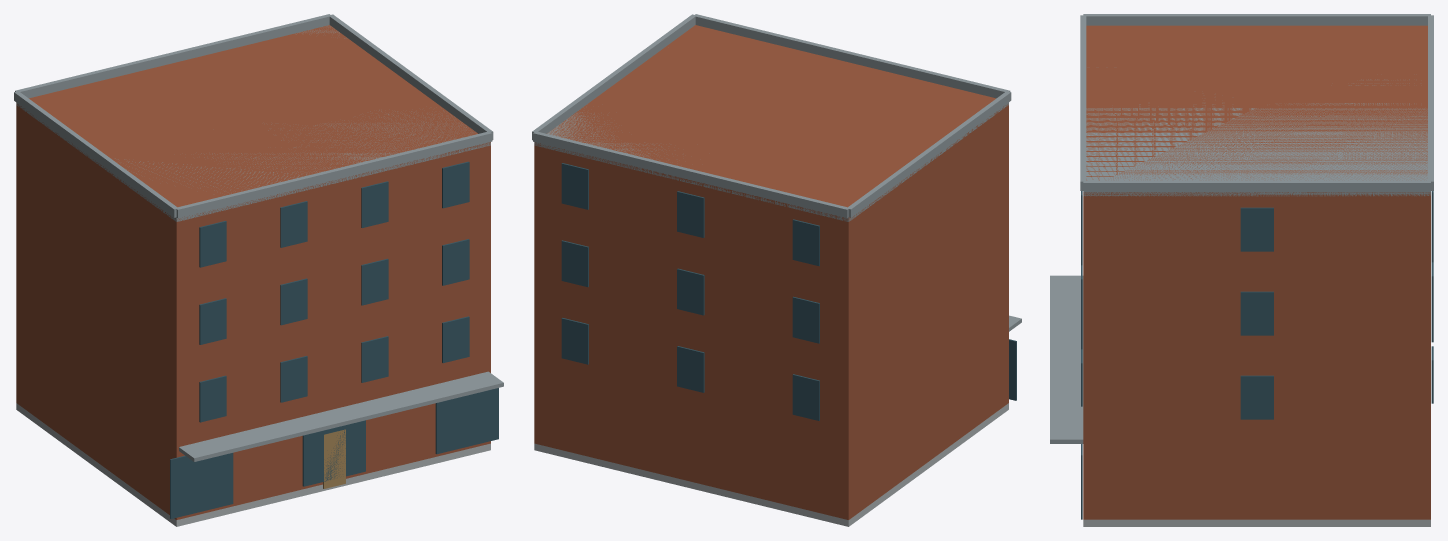
File: shoptop-mixed.glb
3 views of the same model, side by side, from view 1: azimuth 30°, elevation 25°; view 2: azimuth 150°, elevation 25°; view 3: azimuth 270°, elevation 25° (orthographic). The views are drawn at different scales.
Parts seen in each view (by area): view 1: wall-envelope, shop-awning, parapet-front, parapet-rear, opening-shopfront-01, ground-contact-plinth, roof-flat, opening-shopfront-03, opening-shopfront-02, parapet-west, parapet-east, opening-shop-door (+12 smaller); view 2: wall-envelope, parapet-rear, parapet-front, ground-contact-plinth, roof-flat, parapet-west, parapet-east, opening-rear-residential-02-02, opening-rear-residential-04-01, opening-rear-residential-03-03, opening-rear-residential-02-01, opening-rear-residential-04-02 (+4 smaller); view 3: wall-envelope, roof-flat, shop-awning, parapet-east, parapet-west, ground-contact-plinth, opening-east-residential-02, opening-east-residential-03, opening-east-residential-04, parapet-front, parapet-rear.
Part boxes in pixels (left/top/right/bottom): wall-envelope: left=16, top=25, right=490, bottom=519; shop-awning: left=179, top=371, right=503, bottom=461; parapet-front: left=176, top=131, right=492, bottom=218; parapet-rear: left=15, top=14, right=330, bottom=98; opening-shopfront-01: left=170, top=453, right=233, bottom=518; ground-contact-plinth: left=16, top=403, right=490, bottom=526; roof-flat: left=16, top=26, right=490, bottom=221; opening-shopfront-03: left=435, top=388, right=498, bottom=454; opening-shopfront-02: left=302, top=420, right=365, bottom=486; parapet-west: left=14, top=91, right=177, bottom=217; parapet-east: left=329, top=14, right=493, bottom=140; opening-shop-door: left=323, top=429, right=345, bottom=488; wall-envelope: left=534, top=25, right=1008, bottom=519; parapet-rear: left=533, top=131, right=849, bottom=218; parapet-front: left=694, top=14, right=1010, bottom=98; ground-contact-plinth: left=534, top=403, right=1008, bottom=526; roof-flat: left=534, top=102, right=1008, bottom=221; parapet-west: left=848, top=91, right=1011, bottom=217; parapet-east: left=532, top=14, right=696, bottom=140; opening-rear-residential-02-02: left=677, top=346, right=704, bottom=392; opening-rear-residential-04-01: left=792, top=219, right=819, bottom=266; opening-rear-residential-03-03: left=561, top=240, right=588, bottom=287; opening-rear-residential-02-01: left=792, top=374, right=819, bottom=420; opening-rear-residential-04-02: left=677, top=191, right=704, bottom=237; wall-envelope: left=1083, top=25, right=1430, bottom=519; roof-flat: left=1083, top=79, right=1430, bottom=196; shop-awning: left=1050, top=275, right=1083, bottom=443; parapet-east: left=1083, top=180, right=1430, bottom=191; parapet-west: left=1083, top=14, right=1430, bottom=25; ground-contact-plinth: left=1083, top=519, right=1430, bottom=526; opening-east-residential-02: left=1240, top=375, right=1273, bottom=419; opening-east-residential-03: left=1240, top=291, right=1273, bottom=335; opening-east-residential-04: left=1240, top=207, right=1273, bottom=251; parapet-front: left=1080, top=15, right=1086, bottom=190; parapet-rear: left=1428, top=15, right=1433, bottom=190.
Bounding box in the file's own units: 14.2 × 13.15 × 13.25.
